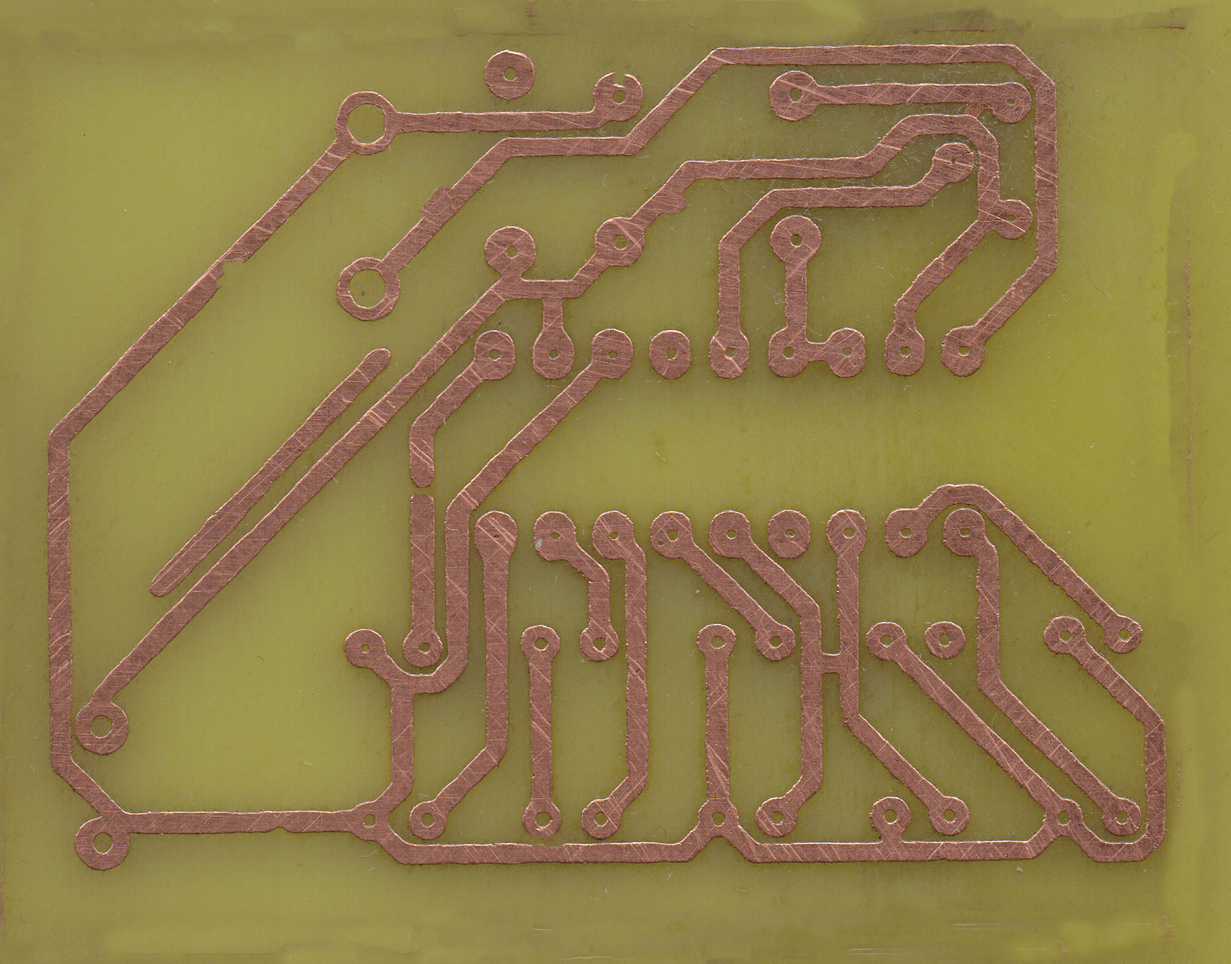missing_hole: (593, 70, 646, 124)
mouse_bite: (212, 256, 255, 292), (264, 805, 293, 838)
open_circuit: (406, 471, 438, 515)
short: (795, 644, 863, 685), (483, 261, 536, 286), (957, 94, 990, 125)
spur: (415, 182, 456, 221), (658, 187, 691, 218)
spurious_copper: (144, 345, 397, 606)
